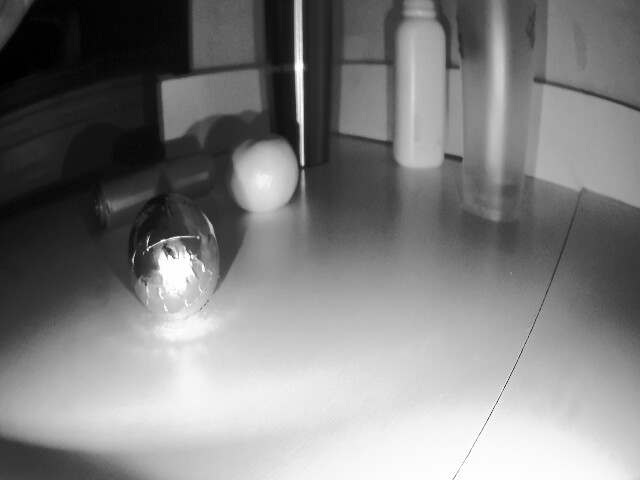black: (123, 193, 231, 330)
